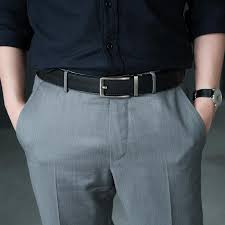F_belt: (30, 58, 196, 99)
F_dress pants: (22, 69, 205, 225)
